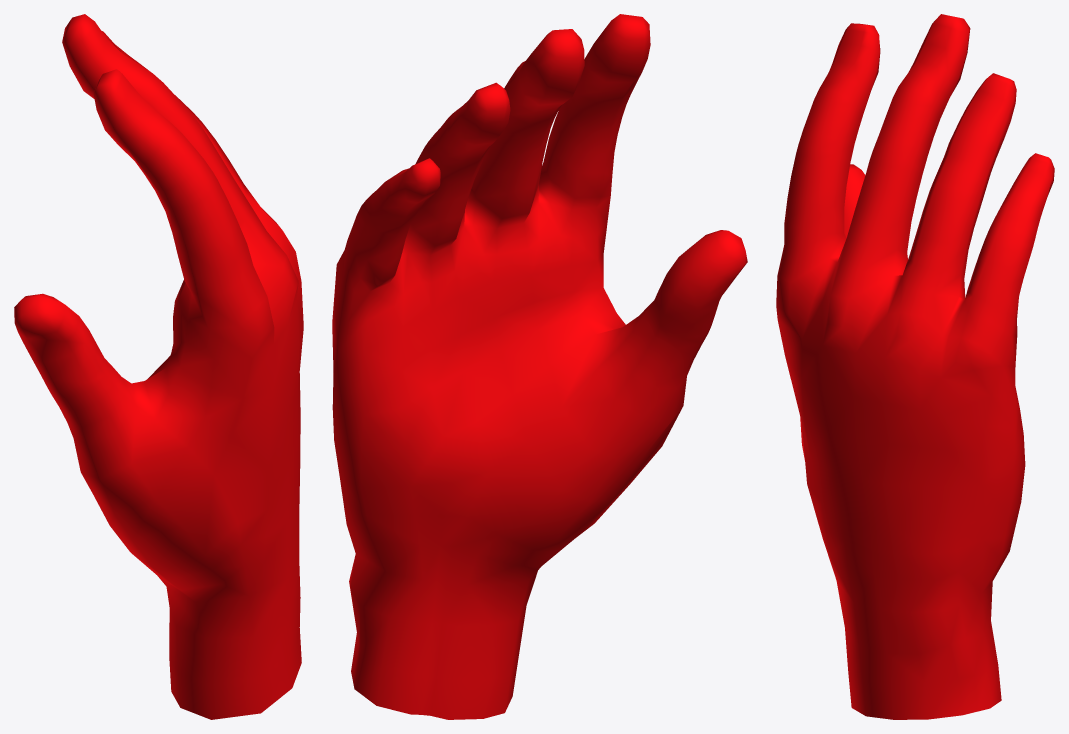
Rendered from HandRed.fbx.
3 views of the same model, side by side, from view 1: azimuth 30°, elevation 25°; view 2: azimuth 150°, elevation 25°; view 3: azimuth 270°, elevation 25° (orthographic). The views are drawn at different scales.
Parts seen in each view (by area): view 1: Hand_Right; view 2: Hand_Right; view 3: Hand_Right.
Boxes of the visible parts, x1=… form: Hand_Right: x1=14, y1=14, x2=303, y2=719; Hand_Right: x1=332, y1=14, x2=747, y2=719; Hand_Right: x1=776, y1=14, x2=1054, y2=719.
Size of the model in its own units: 1169 by 2371 by 933.
